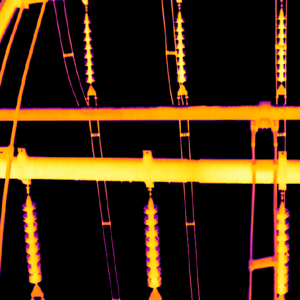insulator: (21, 195, 41, 283), (144, 196, 160, 287), (275, 201, 286, 296), (82, 10, 93, 84), (175, 10, 185, 85), (276, 6, 285, 81)
